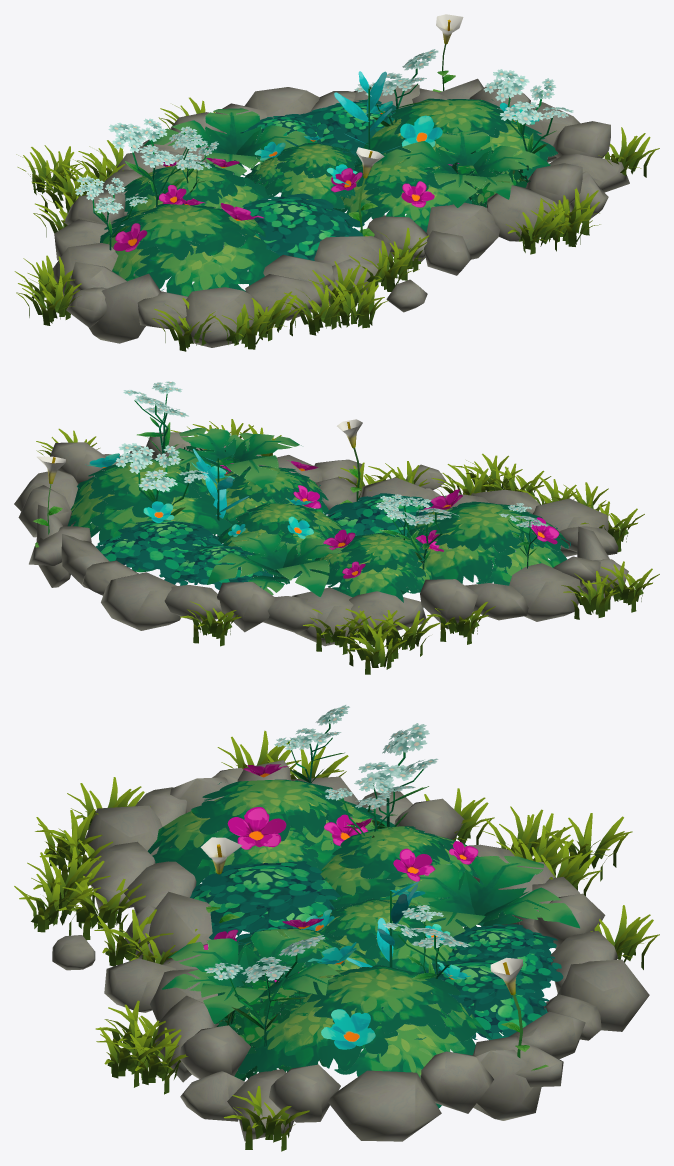
File: SM_Bloqueur_Organique_Test.fbx
3 renders of one model, top to bottom at view 1: azimuth 30°, elevation 25°; view 2: azimuth 150°, elevation 25°; view 3: azimuth 270°, elevation 25°, orthographic. The views are drawn at different scales.
Visible parts, largest first — view 1: Bloqueur_Organique4; view 2: Bloqueur_Organique4; view 3: Bloqueur_Organique4.
Part boxes in pixels (box(x1,y1,x2,y2)): Bloqueur_Organique4: box(14, 14, 659, 351); Bloqueur_Organique4: box(14, 381, 659, 674); Bloqueur_Organique4: box(14, 705, 659, 1151).
Bounding box in the file's own units: 7.12 × 1.46 × 5.01.
3 materials, 3 textured.
